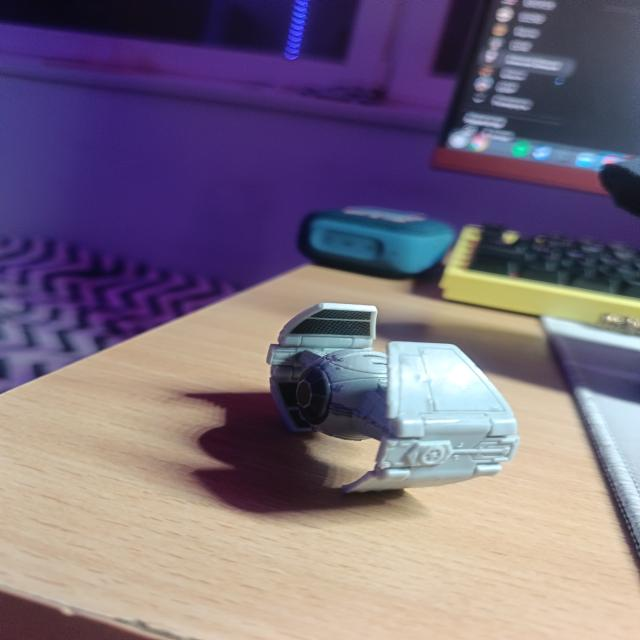tie fighter: (266, 303, 519, 493)
